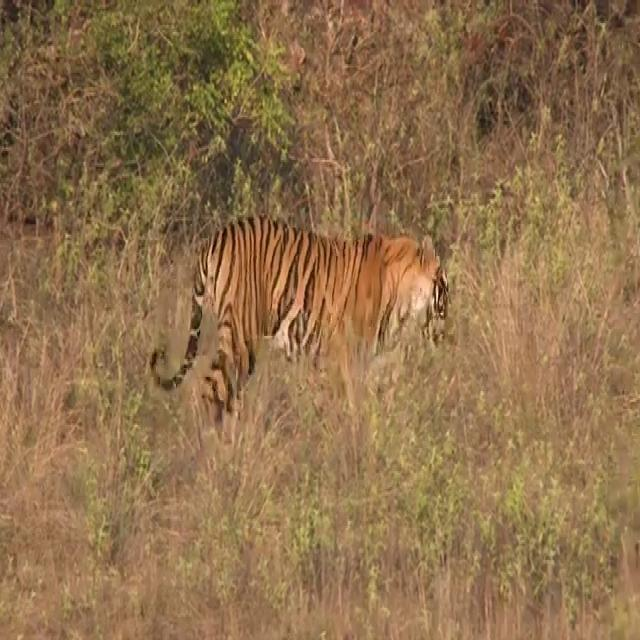tiger: (150, 212, 452, 436)
